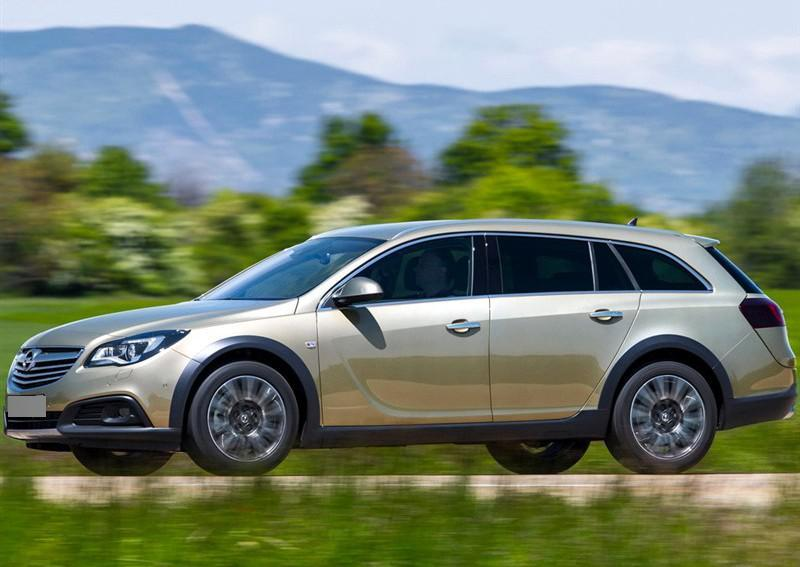Wagon: (6, 218, 798, 475)
